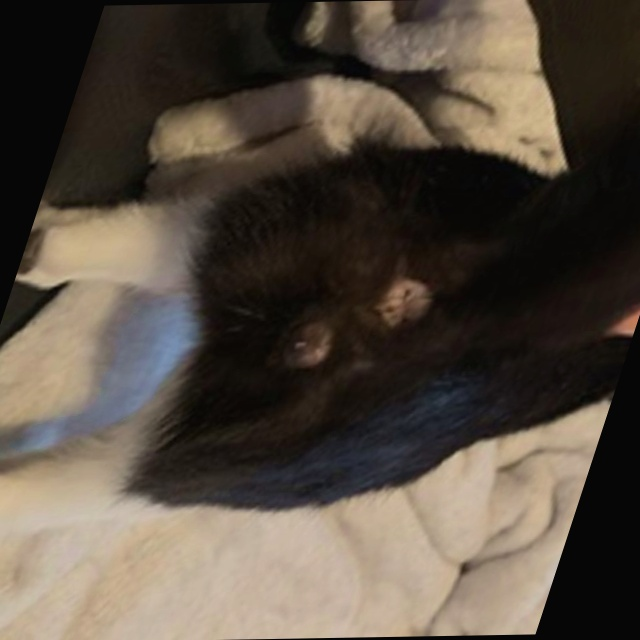lump_and_bump: (371, 283, 436, 325), (284, 326, 340, 366)
